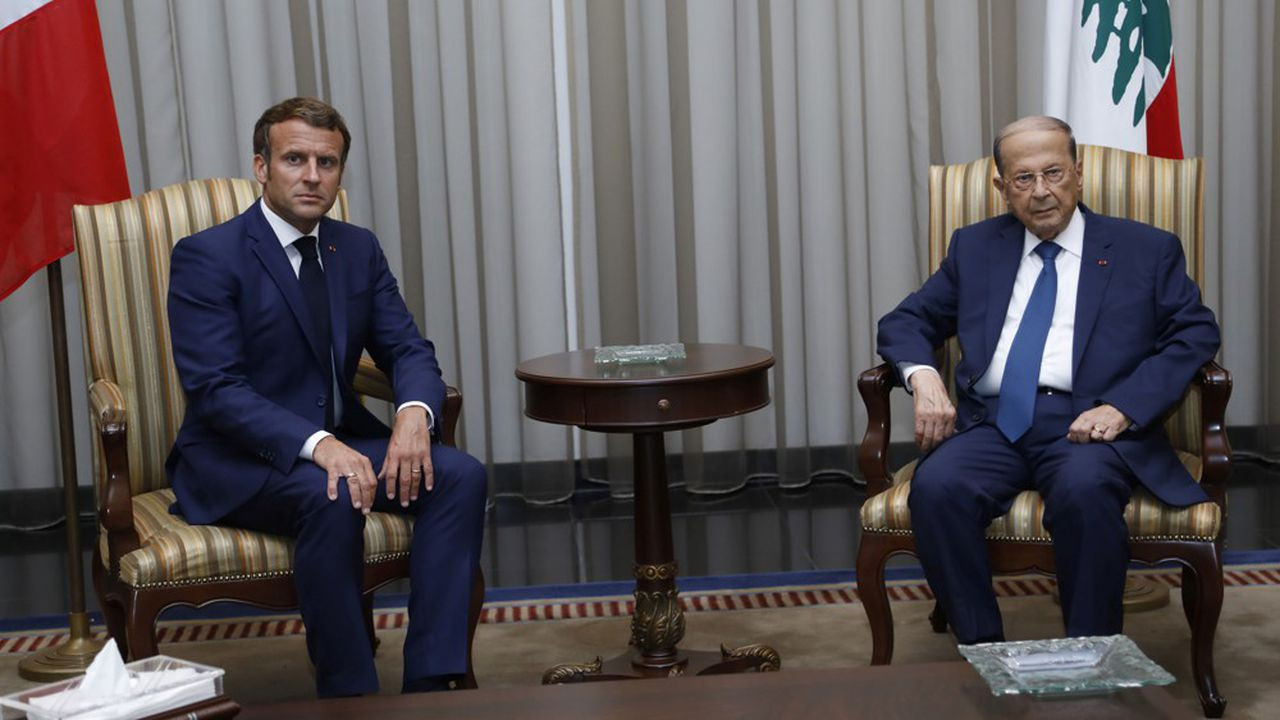without_mask: (1004, 132, 1072, 230), (276, 127, 342, 217)
